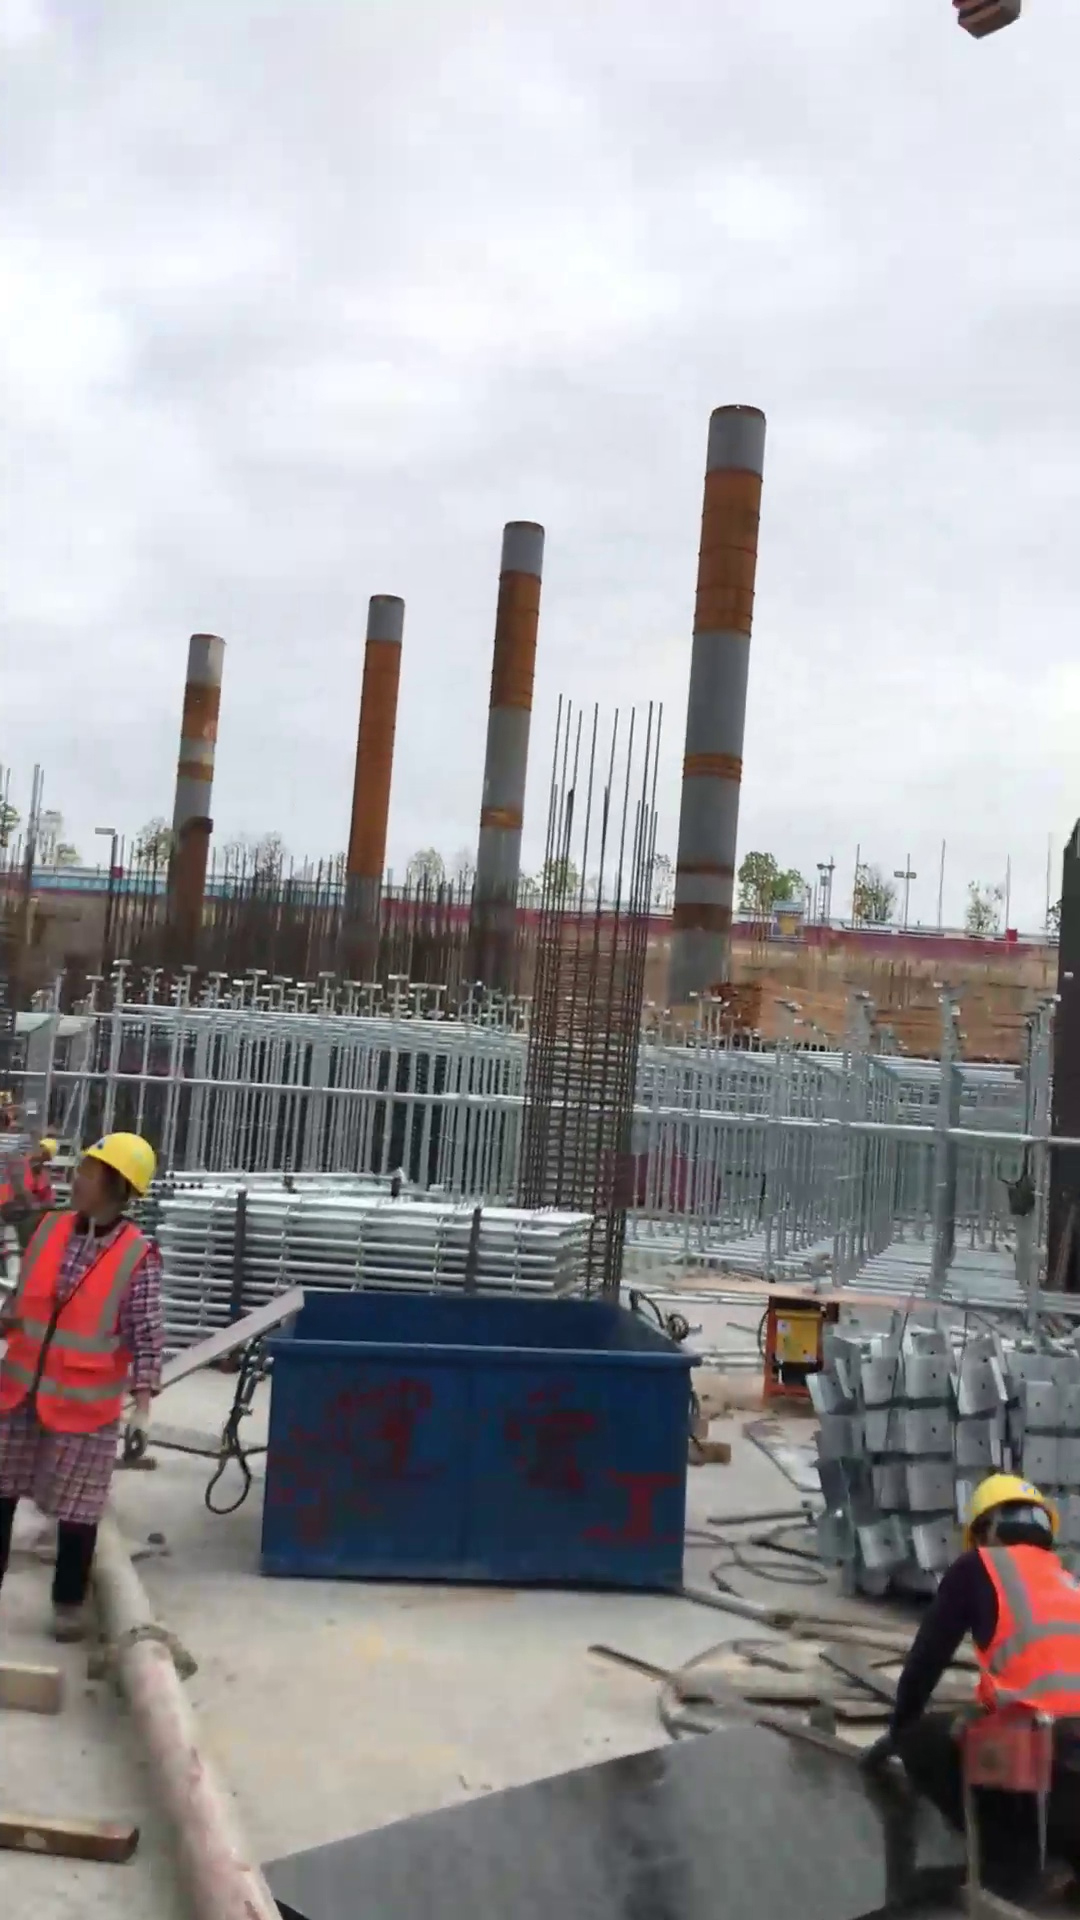cutter: (680, 1265, 935, 1384)
helmet: (953, 1467, 1061, 1546), (79, 1131, 161, 1206), (39, 1133, 65, 1167)
hopper: (254, 1277, 714, 1617)
person: (1, 1118, 187, 1654), (880, 1468, 1080, 1913), (1, 1122, 75, 1254)
scaffold: (159, 1172, 633, 1370)
vest: (1, 1217, 168, 1439), (957, 1543, 1080, 1716), (1, 1157, 58, 1221)
